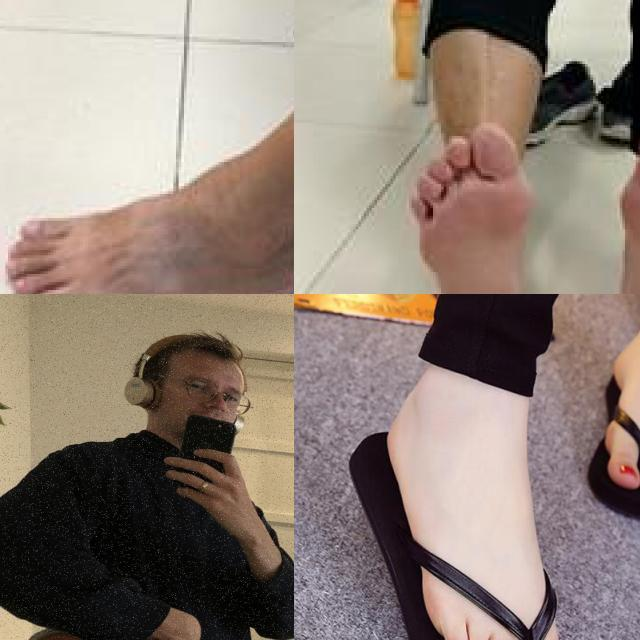Barefoots: (0, 194, 294, 294), (393, 116, 542, 294)
Ear-protection: (107, 310, 269, 458)
Sandals: (318, 334, 640, 640)
